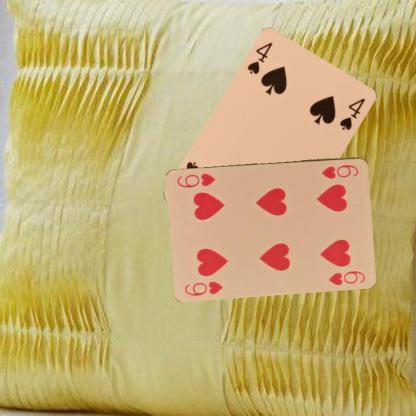4s: (244, 40, 274, 76)
6h: (183, 278, 224, 297), (319, 162, 360, 180)
